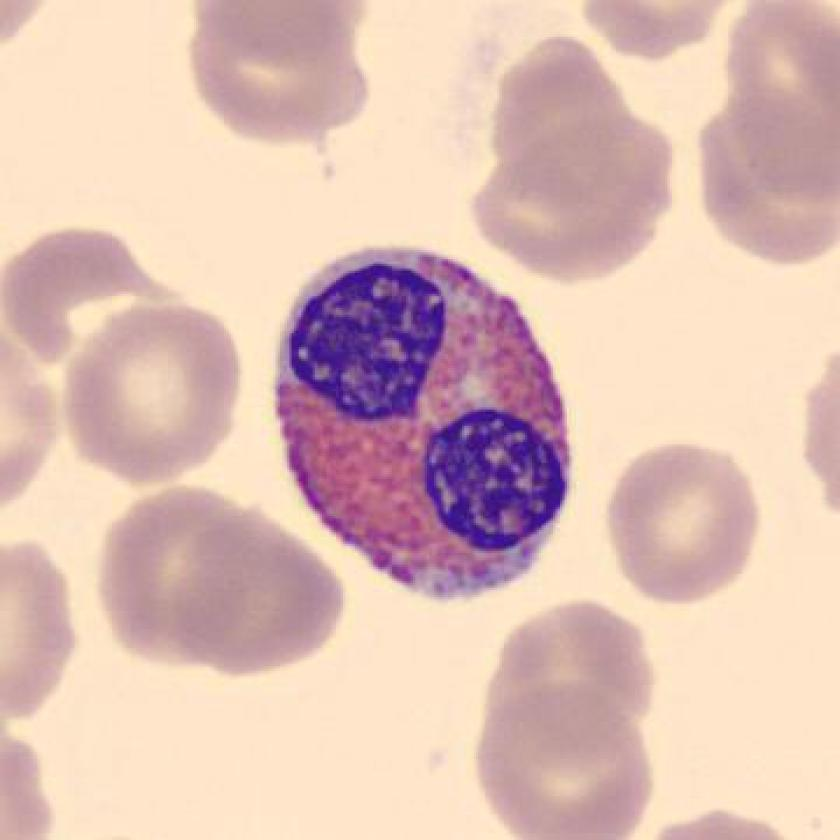eosinophil: (260, 230, 584, 624)
